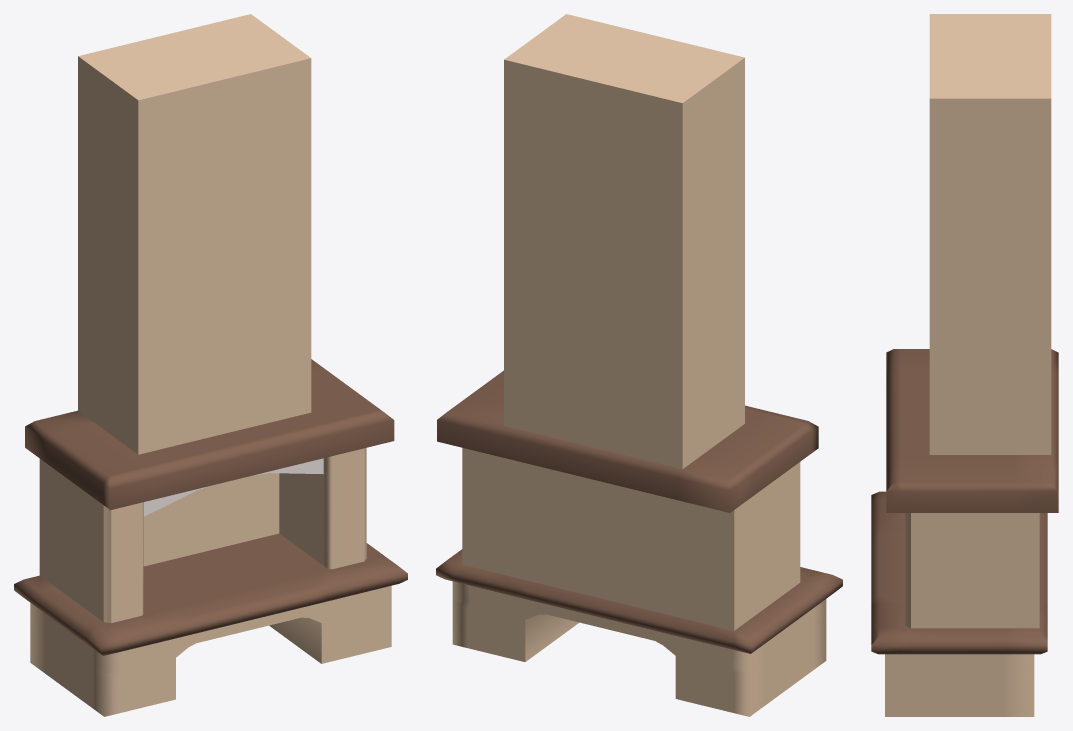
The model's file is cheminez.fbx.
3 views of the same model, side by side, from view 1: azimuth 30°, elevation 25°; view 2: azimuth 150°, elevation 25°; view 3: azimuth 270°, elevation 25° (orthographic). The views are drawn at different scales.
Parts seen in each view (by area): view 1: pCube1; view 2: pCube1; view 3: pCube1.
Part boxes in pixels (bbox=[...]): pCube1: bbox=[14, 14, 407, 716]; pCube1: bbox=[436, 14, 842, 716]; pCube1: bbox=[871, 14, 1058, 716].
Bounding box in the file's own units: 487 × 892 × 256.
